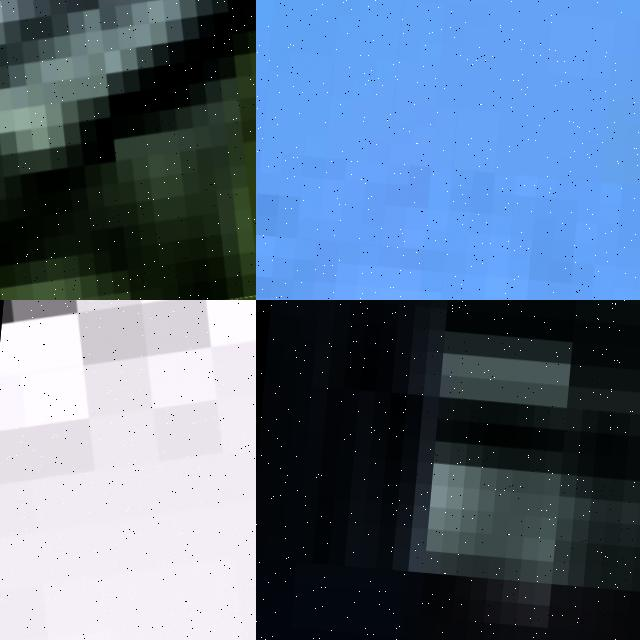0: (0, 0, 256, 300)
drone: (0, 300, 256, 640)
